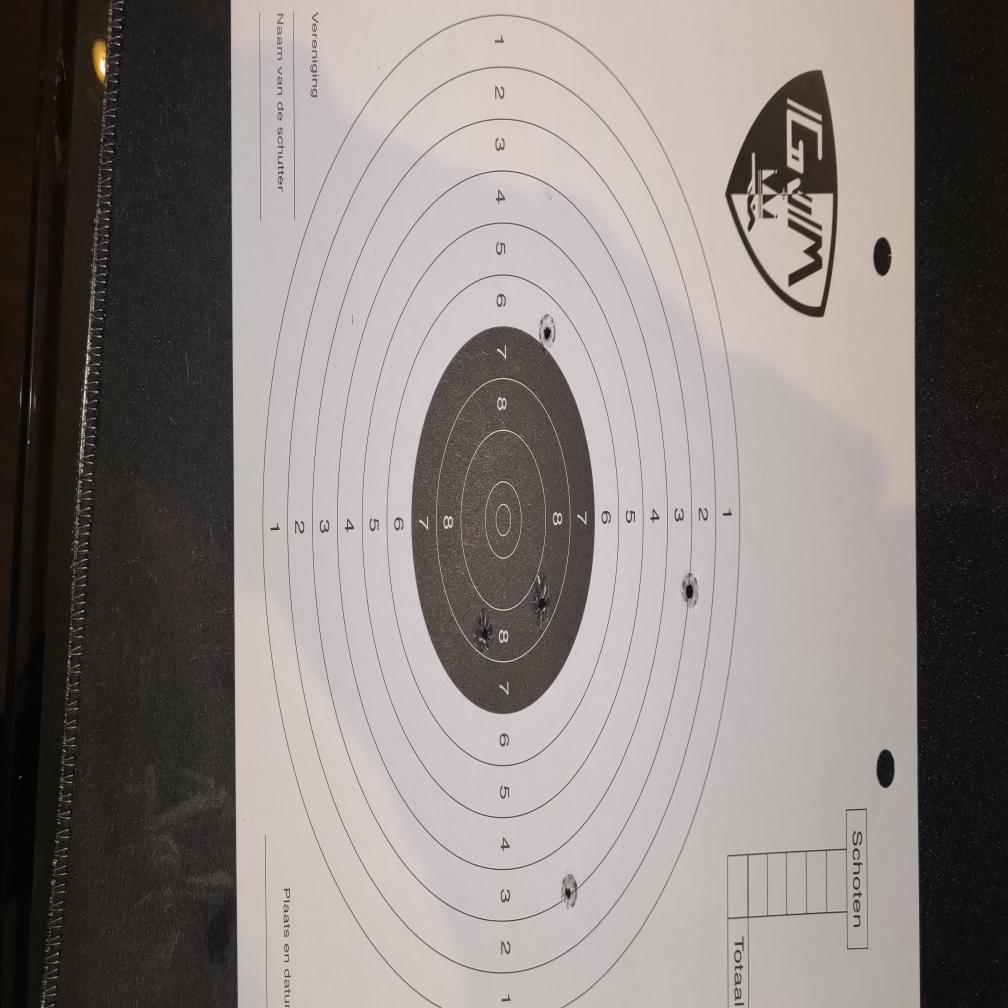3: (680, 569, 700, 611), (561, 871, 579, 914)
6: (538, 311, 556, 351)
8: (474, 608, 494, 656), (532, 582, 551, 622)
Target: (260, 9, 742, 1008)
black_contour: (410, 328, 595, 716)
